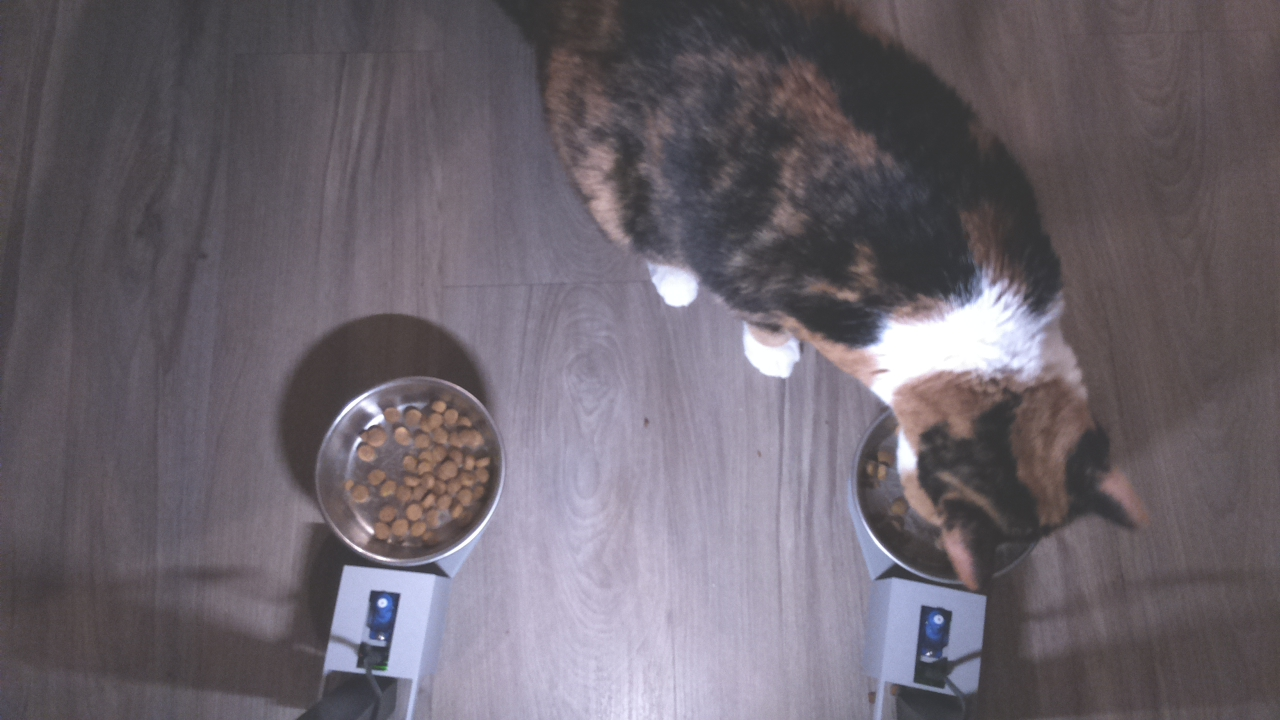bella_eating: (820, 333, 1154, 594)
open_bowl: (308, 368, 508, 576)
